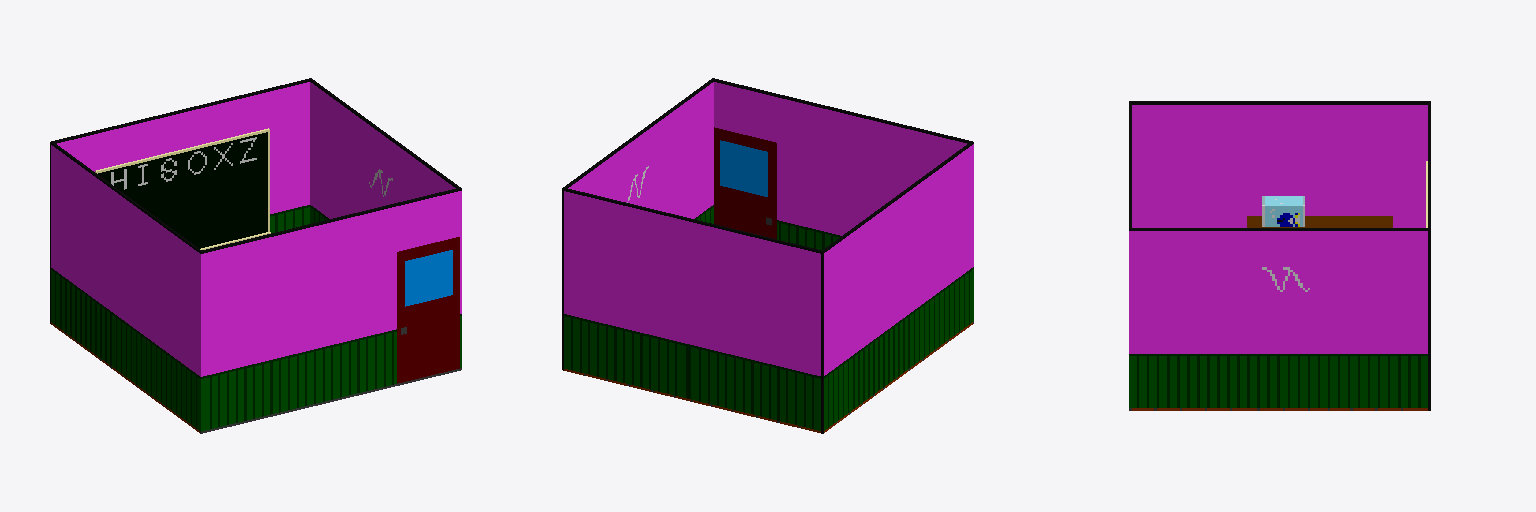
3 renders of one model, left to right at view 1: azimuth 30°, elevation 25°; view 2: azimuth 150°, elevation 25°; view 3: azimuth 270°, elevation 25°, orthographic.
Visible parts, largest first — view 1: object 1; view 2: object 1; view 3: object 1.
Part boxes in pixels (bbox=[...]): object 1: bbox=[50, 78, 461, 433]; object 1: bbox=[562, 78, 973, 433]; object 1: bbox=[1129, 101, 1430, 410].
Size of the model in its own units: 12 by 8 by 12.
Materials: 1 (1 with a texture image).